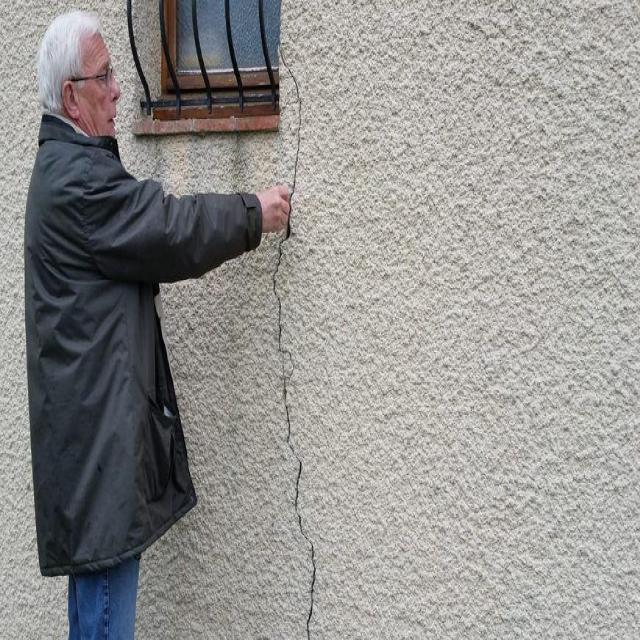crack: (271, 42, 303, 389), (281, 358, 316, 638)
